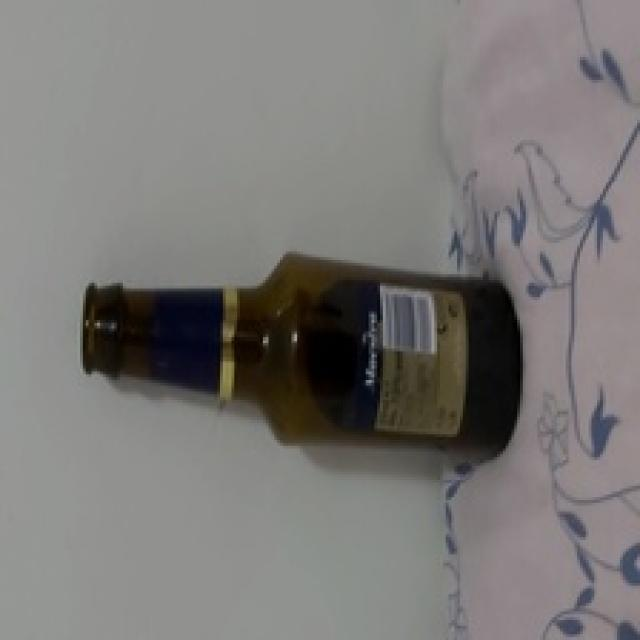Glass: (82, 246, 523, 471)
